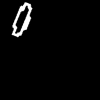chain: (12, 3, 31, 36)
